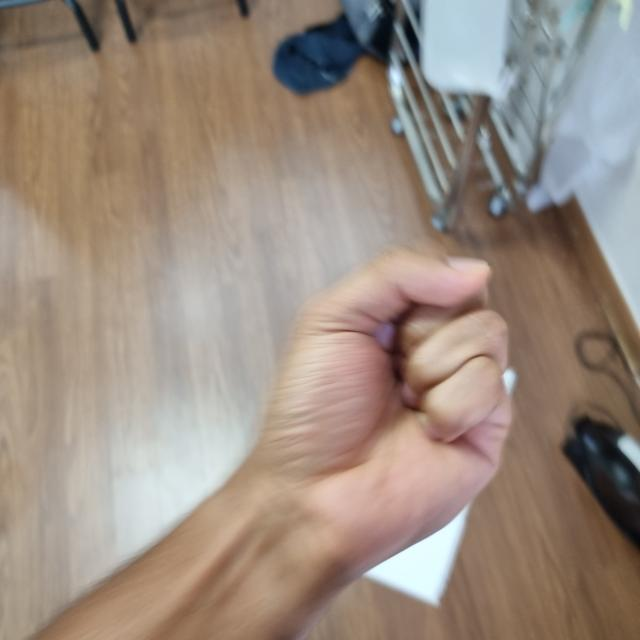Rock: (245, 256, 512, 575)
